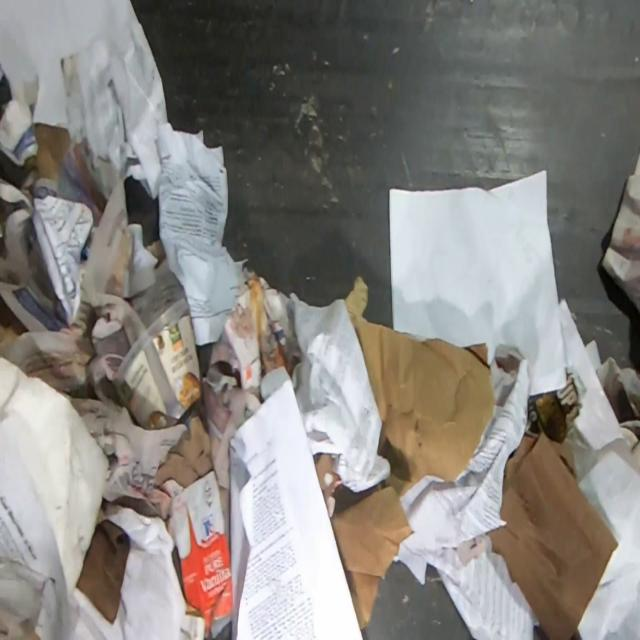cardboard: (330, 275, 496, 631), (484, 428, 619, 639), (159, 470, 232, 638), (22, 121, 72, 181)
rigid_plastic: (110, 297, 202, 428)
